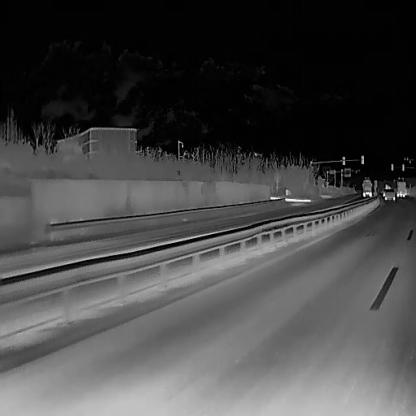car: (384, 188, 394, 200), (382, 188, 386, 197)
truck: (361, 178, 372, 197), (395, 180, 406, 198)
